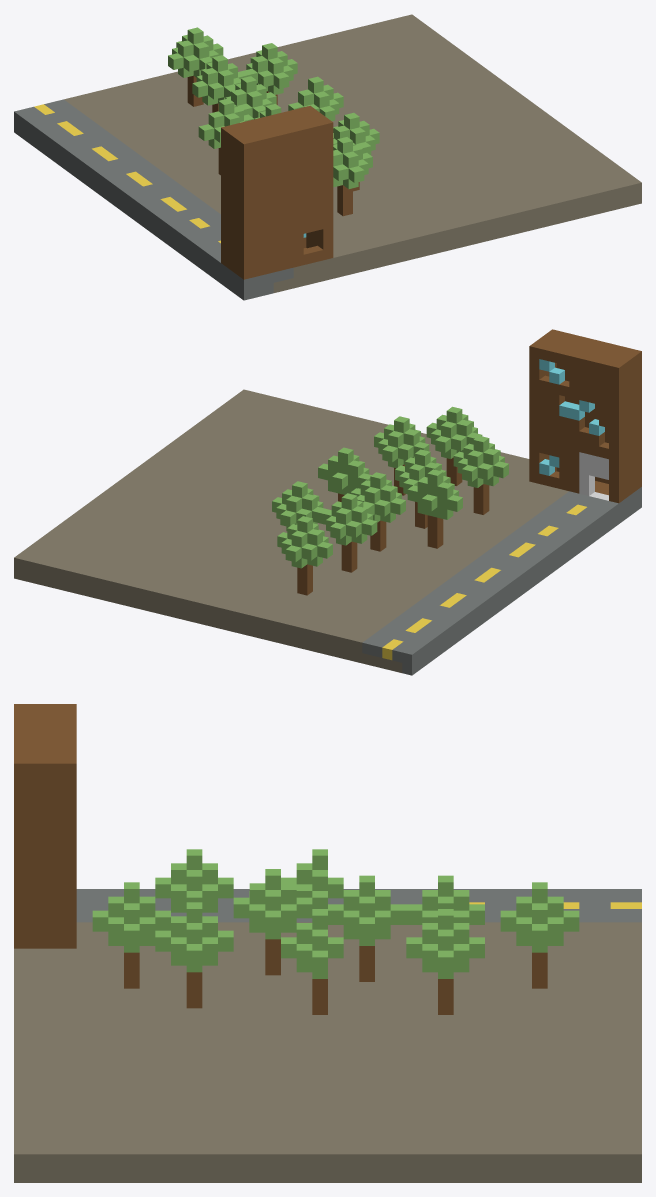
3 renders of one model, top to bottom at view 1: azimuth 30°, elevation 25°; view 2: azimuth 150°, elevation 25°; view 3: azimuth 270°, elevation 25°, orthographic. The views are drawn at different scales.
Visible parts, largest first — view 1: Untitled; view 2: Untitled; view 3: Untitled.
Boxes of the visible parts, x1,y1,x2,y2 form: Untitled: [14, 14, 641, 300]; Untitled: [14, 329, 641, 675]; Untitled: [14, 704, 641, 1182].
Size of the model in its own units: 4 by 1.5 by 4.
3 materials, 1 textured.
